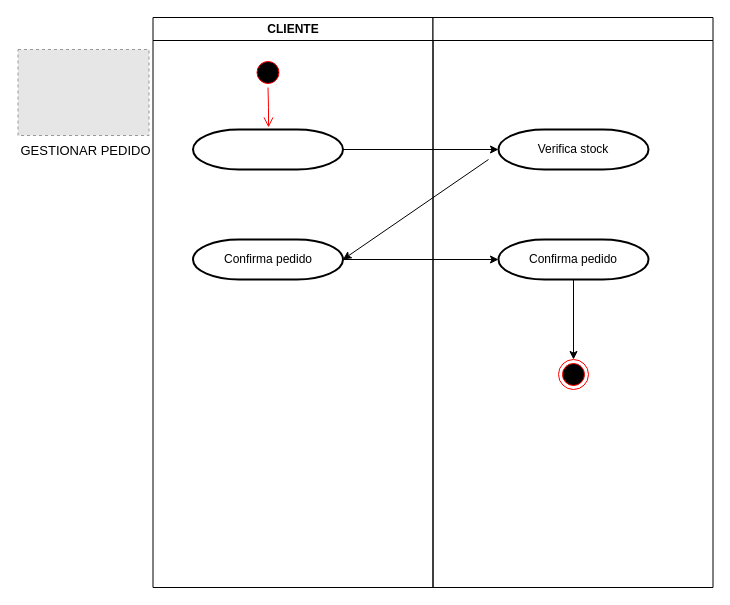
The diagram is 730 pixels wide and 605 high, and some of its shapes have lost their labels. Grey dashed boxes stand in for pictures. Each missing label, with the box of its shape:
ALMACEN: (432, 16, 713, 588)
Selecciona producto: (192, 128, 344, 170)
